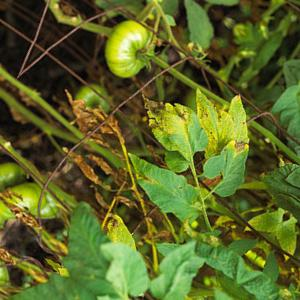Tomato Early blight leaf: (115, 146, 213, 231), (126, 87, 217, 170), (194, 129, 261, 203)
